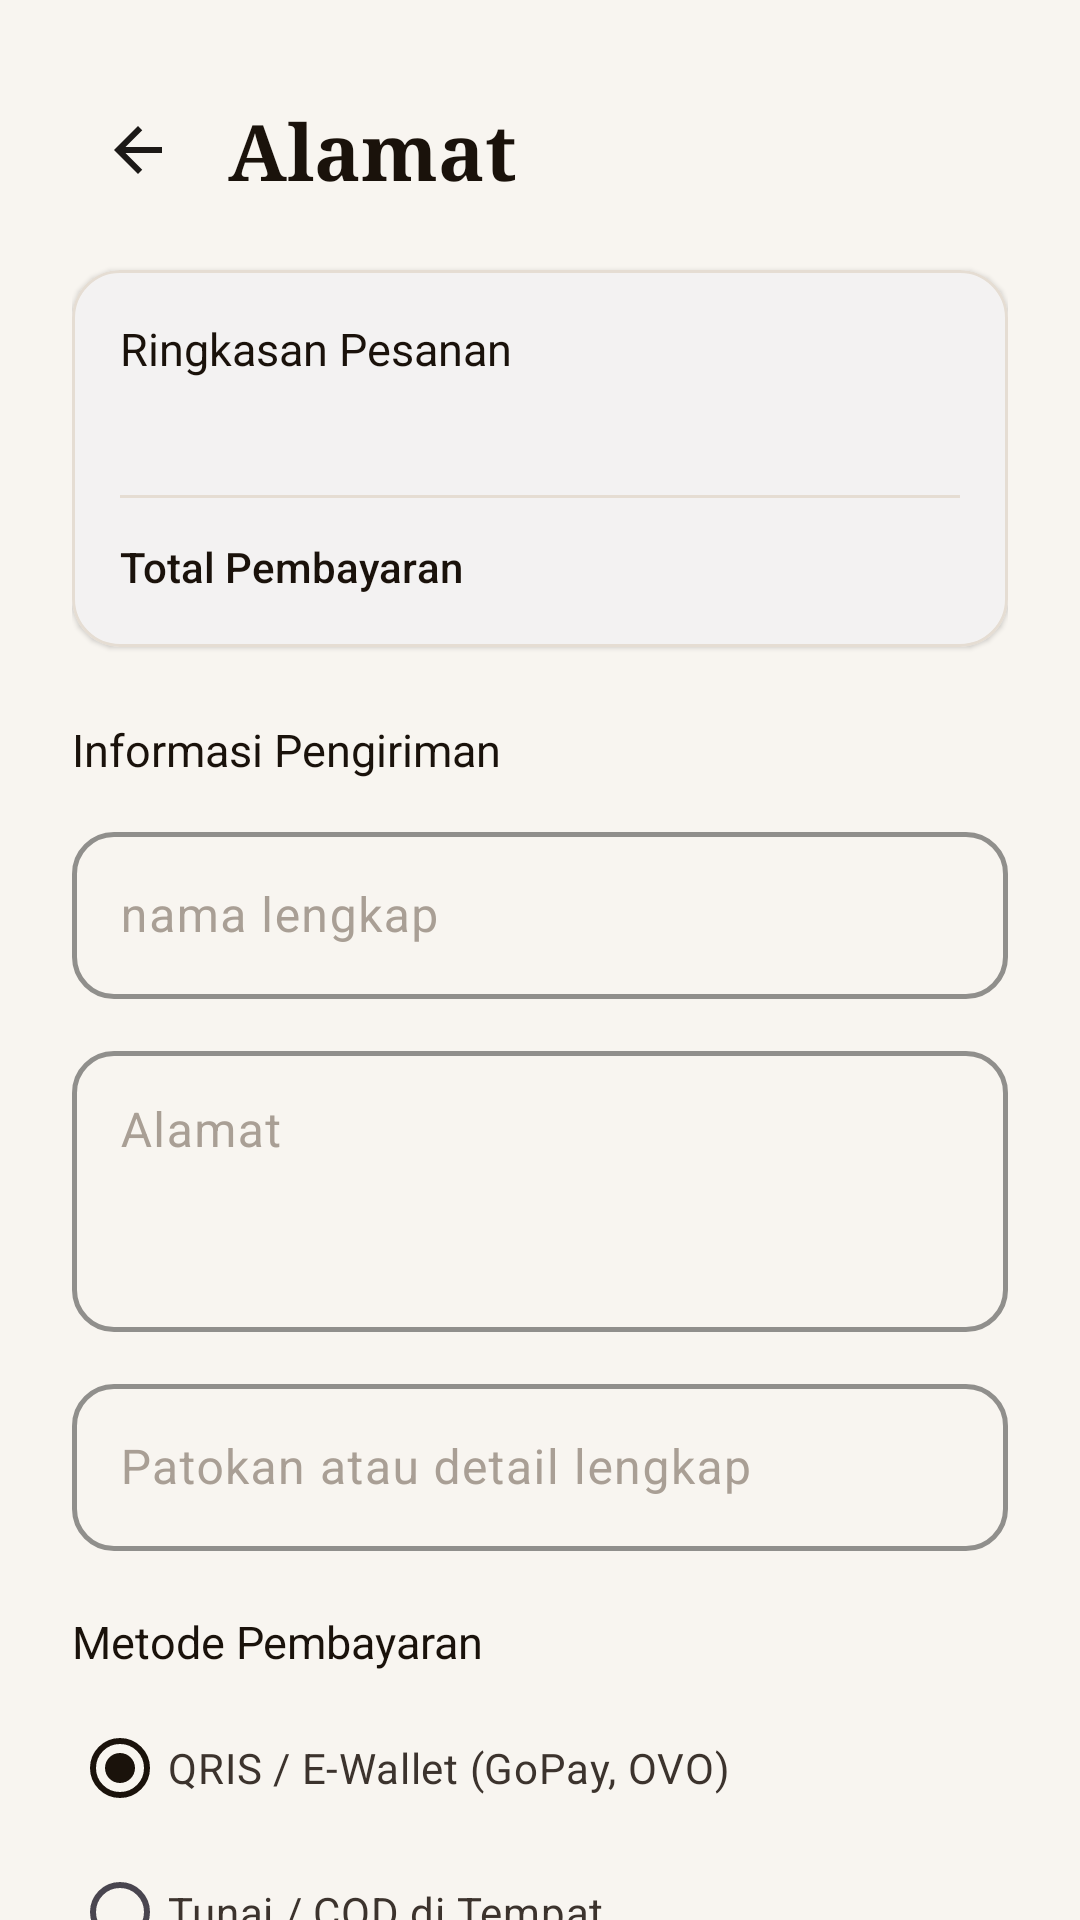

Screen size 1080w x 1920h. Icon name, then its box in pixels as [x1=x1, y1=y1, x2=x2, y2=y2]:
Kembali: [x1=114, y1=126, x2=162, y2=174]
